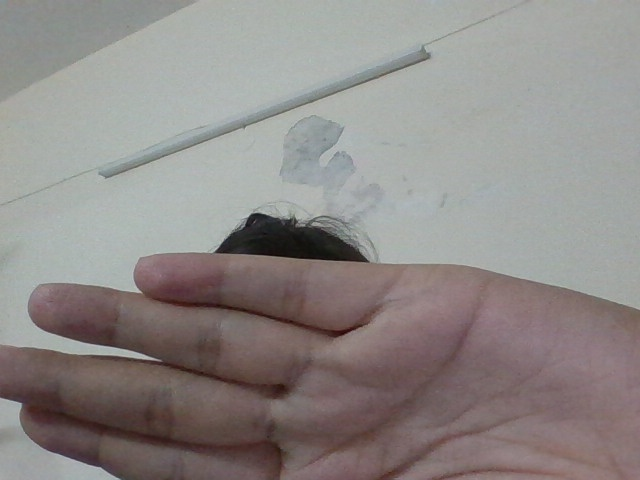play: (9, 240, 637, 477)
